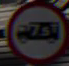Heavy Vehicles: (8, 7, 60, 56)
